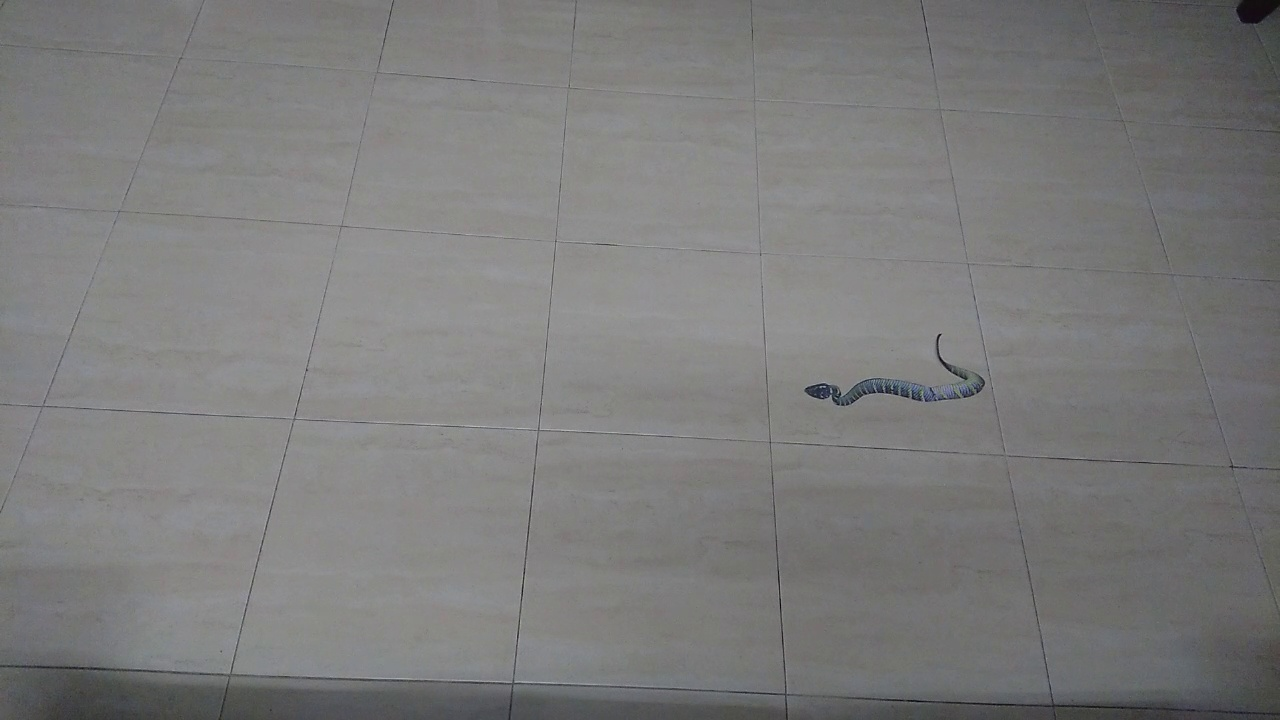snake: (783, 317, 1011, 424)
